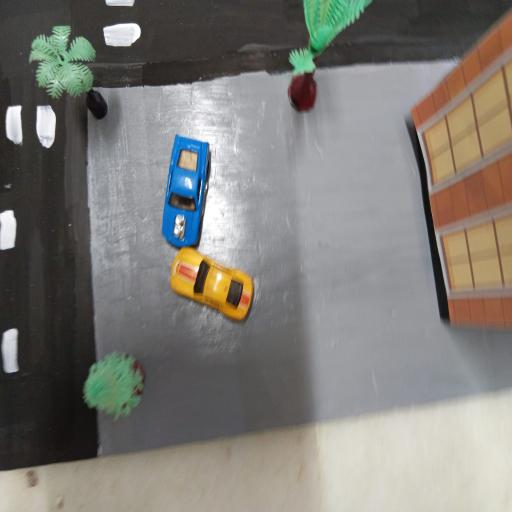car crash: (169, 241, 259, 324), (164, 124, 214, 244)
